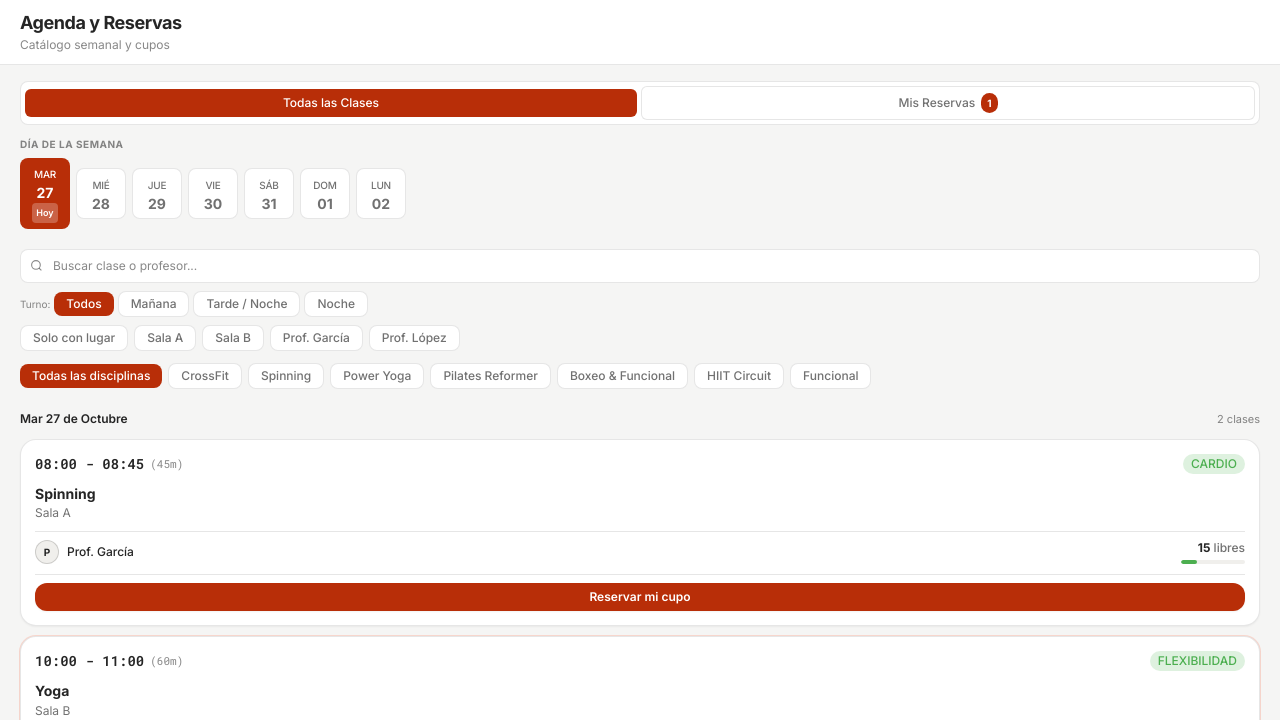
ClasesPage › shows clear search button when searchQuery is non-empty
Type "Yoga" into the field with placeholder "Buscar clase o profesor..." at (640, 266), box left=20, top=249, right=1260, bottom=283
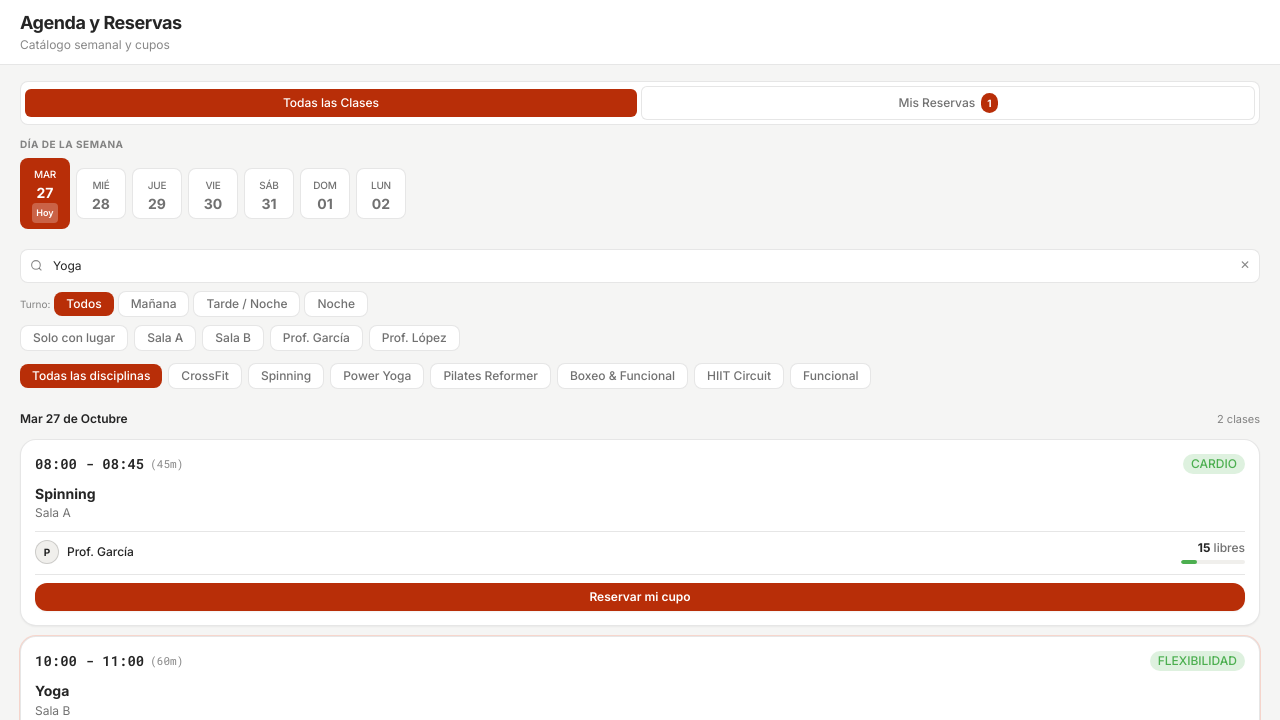
Result: the button named "Limpiar búsqueda" is shown at left=1240, top=257, right=1250, bottom=273
